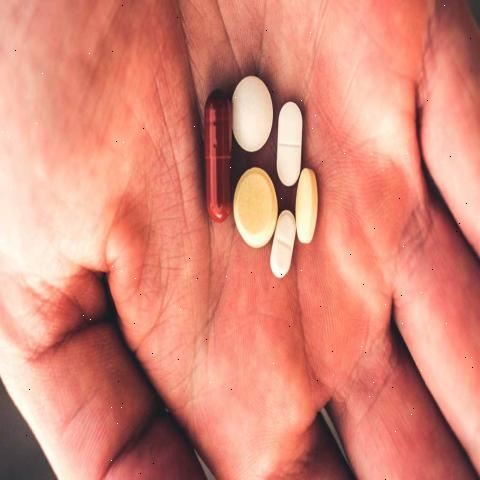Pill: (232, 156, 280, 258), (228, 65, 276, 154), (269, 205, 300, 302), (295, 163, 326, 259), (278, 94, 308, 186)
